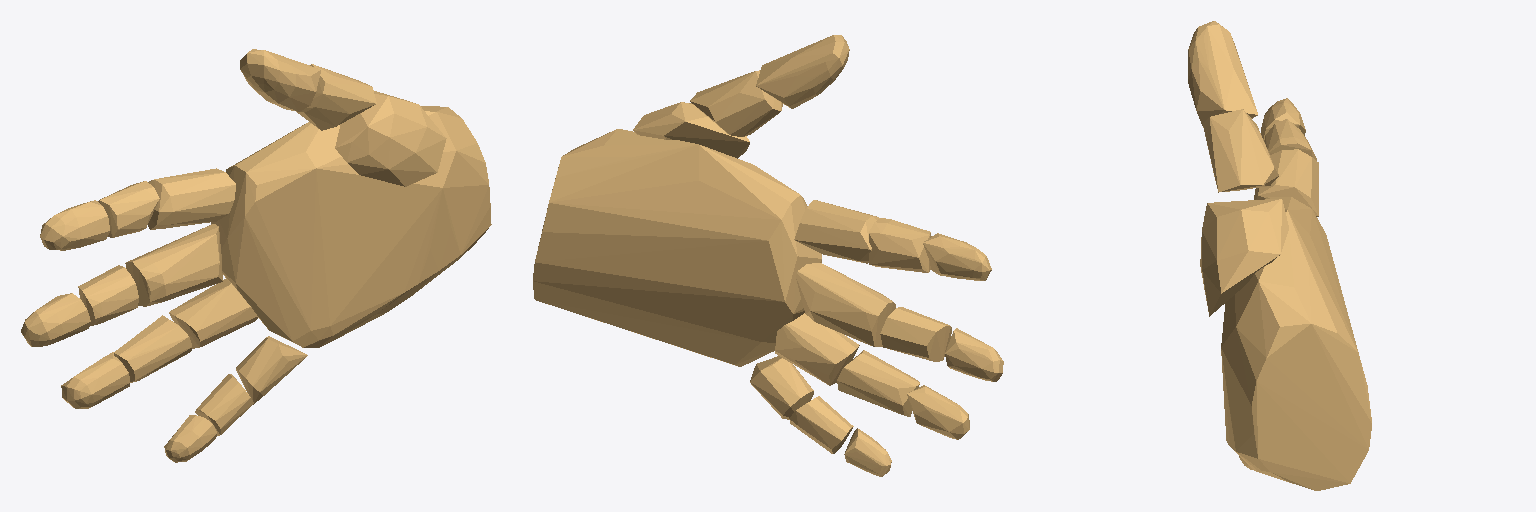
--- What the picture shows (computed from the rendered views, not written in the file) ---
Views: 3 orthographic renders of the robot side by side, from view 1: azimuth 30°, elevation 25°; view 2: azimuth 150°, elevation 25°; view 3: azimuth 270°, elevation 25°.
Robot: mano — 64 links, 63 joints (48 revolute, 3 prismatic, 12 fixed); root link world; default pose: all joints at 0.
Visible links, largest first — view 1: link_palm_rz, link_th_pm_z, link_mf_pm_z, link_ff_pm_z, link_th_dd_z, link_rf_pm_z, link_rf_md_z, link_th_md_z, link_ff_dd_z, link_mf_dd_z, link_lf_pm_z, link_mf_md_z (+4 smaller); view 2: link_palm_rz, link_mf_pm_z, link_th_dd_z, link_rf_pm_z, link_ff_pm_z, link_th_md_z, link_th_pm_z, link_rf_md_z, link_mf_md_z, link_ff_md_z, link_lf_pm_z, link_ff_dd_z (+4 smaller); view 3: link_palm_rz, link_th_pm_z, link_th_dd_z, link_th_md_z, link_ff_pm_z, link_ff_md_z, link_ff_dd_z.
Boxes of the visible links, x1=… form: link_palm_rz: x1=211, y1=106, x2=491, y2=347; link_th_pm_z: x1=335, y1=91, x2=446, y2=186; link_mf_pm_z: x1=125, y1=224, x2=222, y2=306; link_ff_pm_z: x1=148, y1=168, x2=235, y2=229; link_th_dd_z: x1=240, y1=49, x2=320, y2=111; link_rf_pm_z: x1=169, y1=279, x2=257, y2=348; link_rf_md_z: x1=114, y1=315, x2=191, y2=382; link_th_md_z: x1=297, y1=64, x2=376, y2=130; link_ff_dd_z: x1=40, y1=200, x2=109, y2=250; link_mf_dd_z: x1=21, y1=293, x2=90, y2=346; link_lf_pm_z: x1=236, y1=336, x2=307, y2=404; link_mf_md_z: x1=78, y1=265, x2=138, y2=325; link_palm_rz: x1=533, y1=129, x2=821, y2=366; link_mf_pm_z: x1=796, y1=263, x2=895, y2=346; link_th_dd_z: x1=756, y1=35, x2=849, y2=108; link_rf_pm_z: x1=775, y1=313, x2=859, y2=385; link_ff_pm_z: x1=794, y1=200, x2=879, y2=263; link_th_md_z: x1=690, y1=70, x2=782, y2=136; link_th_pm_z: x1=633, y1=102, x2=749, y2=158; link_rf_md_z: x1=837, y1=350, x2=919, y2=416; link_mf_md_z: x1=880, y1=307, x2=951, y2=361; link_ff_md_z: x1=869, y1=218, x2=931, y2=272; link_lf_pm_z: x1=750, y1=356, x2=813, y2=419; link_ff_dd_z: x1=923, y1=233, x2=991, y2=280; link_palm_rz: x1=1221, y1=197, x2=1371, y2=490; link_th_pm_z: x1=1200, y1=199, x2=1288, y2=316; link_th_dd_z: x1=1188, y1=21, x2=1257, y2=125; link_th_md_z: x1=1203, y1=109, x2=1278, y2=192; link_ff_pm_z: x1=1254, y1=149, x2=1318, y2=216; link_ff_md_z: x1=1264, y1=119, x2=1316, y2=160; link_ff_dd_z: x1=1261, y1=98, x2=1305, y2=139.
Size in the robot's own frame: 0.1951 by 0.0594 by 0.1689 metres.
16 mesh visuals loaded from 16 distinct referenced files (16 OBJ).

The robot description file, URDF, robot "mano":
<?xml version="0.0" ?>
<robot name="mano">


  <material name="hand_color">
    <color rgba="0.91796875 0.765 0.5234 1"/>
  </material>
  <link name="world">  </link>

  <joint name="world_to_base" type="fixed">
    <axis xyz="0 0 0"/>
    <origin xyz="0.0 0.0 0.0"/>
    <parent link="world"/>
    <child link="sliderBar"/>
  </joint>

  <link name="sliderBar">
    <inertial>
      <mass value="0"/>
      <inertia ixx="1.0" ixy="0.0" ixz="0.0" iyy="1.0" iyz="0.0" izz="1.0"/>
    </inertial>
  </link>

    <!--
      Palm
    -->
    <!-- Palm -->
    <link name="palm">
		<inertial>
			<origin rpy="1.58112 0.01503 1.64315" xyz="-0.03429 -0.00198 0.00005"/>
			<mass value="0.25042"/>
			<inertia ixx="0.00043" ixy="0" ixz="0" iyy="0.00029" iyz="0" izz="0.00020"/>
		</inertial>
    </link>

    <link name="link_palm_y">
        <inertial>
            <origin rpy="0.00000 -0.00000 0.00000" xyz="0.00000 0.00000 0.00000"/>
            <mass value="0.00000"/>
            <inertia ixx="0.00000" ixy="0" ixz="0" iyy="0.00000" iyz="0" izz="0.00000"/>
        </inertial>
    </link>
    <link name="link_palm_z">
        <inertial>
            <origin rpy="0.00000 -0.00000 0.00000" xyz="0.00000 0.00000 0.00000"/>
            <mass value="0.00000"/>
            <inertia ixx="0.00000" ixy="0" ixz="0" iyy="0.00000" iyz="0" izz="0.00000"/>
        </inertial>
    </link>
    <link name="link_palm_rx">
        <inertial>
            <origin rpy="0.00000 -0.00000 0.00000" xyz="0.00000 0.00000 0.00000"/>
            <mass value="0.00000"/>
            <inertia ixx="0.00000" ixy="0" ixz="0" iyy="0.00000" iyz="0" izz="0.00000"/>
        </inertial>
    </link>
    <link name="link_palm_ry">
        <inertial>
            <origin rpy="0.00000 -0.00000 0.00000" xyz="0.00000 0.00000 0.00000"/>
            <mass value="0.00000"/>
            <inertia ixx="0.00000" ixy="0" ixz="0" iyy="0.00000" iyz="0" izz="0.00000"/>
        </inertial>
    </link>
    <link name="link_palm_rz">
        <inertial>
            <origin rpy="0.00000 -0.00000 0.00000" xyz="0.00000 0.00000 0.00000"/>
            <mass value="0.00000"/>
            <inertia ixx="0.00000" ixy="0" ixz="0" iyy="0.00000" iyz="0" izz="0.00000"/>
        </inertial>
        <visual>
            <origin rpy="0 0 0.0" xyz="0 0 0"/>
            <geometry>
                <mesh filename="meshes/palm_mean.obj" scale="1 1 1"/>
            </geometry>
            <material name="hand_color"/>
        </visual>
        <collision>
            <origin rpy="0 0 0.2" xyz="-0.03 0 0"/>
            <geometry>
                <box size="0.08780 0.027 0.07"/>
            </geometry>
            <material name="">
              <contact name="finger"/>
            </material>
        </collision>
        <collision>
            <origin rpy="-2.61505 0.70030 -1.87000" xyz="-0.01187 -0.00708 0.01218"/>
            <geometry>
                <capsule length="0.03684" radius="0.015"/>
            </geometry>
            <material name="">
              <contact name="finger"/>
            </material>
        </collision>
    </link>
   <joint name="WRJ0x" type="prismatic">
        <parent link="sliderBar"/>
        <child link="palm"/>
        <origin xyz="0.0 0.0 0.0"/>
        <axis xyz="1 0 0"/>
        <limit effort="100.0" lower="-2" upper="2" />
        <dynamics damping="10.0" friction="0.0001"/>
    </joint>
    <joint name="WRJ0y" type="prismatic">
        <parent link="palm"/>
        <child link="link_palm_y"/>
        <origin xyz="0.0 0.0 0.0"/>
        <axis xyz="0 1 0"/>
        <limit effort="100.0" lower="-2" upper="2" />
        <dynamics damping="10.0" friction="0.0001"/>
    </joint>
    <joint name="WRJ0z" type="prismatic">
        <parent link="link_palm_y"/>
        <child link="link_palm_z"/>
        <origin xyz="0.0 0.0 0.0"/>
        <axis xyz="0 0 1"/>
        <limit effort="100.0" lower="-2" upper="2"/>
        <dynamics damping="10.0" friction="0.0001"/>
    </joint>
    <joint name="WRJ0rx" type="revolute">
        <parent link="link_palm_z"/>
        <child link="link_palm_rx"/>
        <origin xyz="0.0 0.0 0.0"/>
        <axis xyz="1 0 0"/>
        <limit effort="1000" lower="-3.14" upper="3.14" />

        <dynamics   damping="1.0" friction="0.0001"/>
    </joint>
    <joint name="WRJ0ry" type="revolute">
        <parent link="link_palm_rx"/>
        <child link="link_palm_ry"/>
        <origin xyz="0.0 0.0 0.0"/>
        <axis xyz="0 1 0"/>
        <limit effort="1000" lower="-3.14" upper="3.14"  />

        <dynamics   damping="1.0" friction="0.0001"/>
    </joint>
    <joint name="WRJ0rz" type="revolute">
        <parent link="link_palm_ry"/>
        <child link="link_palm_rz"/>
        <origin xyz="0.0 0.0 0.0"/>
        <axis xyz="0 0 1"/>
        <limit effort="1000" lower="-3.14" upper="3.14"  />
        <dynamics   damping="1.0" friction="0.0001"/>
    </joint>


     <!-- FF -->
    <link name="fffixed">
        <inertial>
            <origin rpy="0.00000 -0.00000 0.00000" xyz="0.00000 0.00000 0.00000"/>
            <mass value="0.0"/>
            <inertia ixx="0.00000" ixy="0" ixz="0" iyy="0.00000" iyz="0" izz="0.00000"/>
        </inertial>
    </link>
    <!-- Fix Finger joint -->
    <joint name="Palm_FFJ2" type="fixed">
        <parent link="link_palm_rz"/>
        <child link="fffixed"/>
        <origin xyz="0.0 0.0 0.0"/>
    </joint>


    <link name="ffproximal">
		<inertial>
			<origin rpy="-0.62614 -1.47063 -2.57808" xyz="0.06969 0.00857 -0.01920"/>
			<mass value="0.00845"/>
			<inertia ixx="0.00000" ixy="0" ixz="0" iyy="0.00000" iyz="0" izz="0.00000"/>
		</inertial>
    </link>
    <link name="link_ff_pm_y">
        <inertial>
            <origin rpy="0.00000 -0.00000 0.00000" xyz="0.00000 0.00000 0.00000"/>
            <mass value="0.00000"/>
            <inertia ixx="0.00000" ixy="0" ixz="0" iyy="0.00000" iyz="0" izz="0.00000"/>
        </inertial>
    </link>
    <link name="link_ff_pm_z">
        <inertial>
            <origin rpy="0.00000 -0.00000 0.00000" xyz="0.00000 0.00000 0.00000"/>
            <mass value="0.00000"/>
            <inertia ixx="0.00000" ixy="0" ixz="0" iyy="0.00000" iyz="0" izz="0.00000"/>
        </inertial>
        <collision>
          <origin rpy="2.0759187  1.43150624 1.94972864" xyz="-0.01633945  0.00200468  0.00110853"/>
          <geometry>
            <capsule length="0.0329984988704395" radius="0.009"/>
          </geometry>
          <material name="">
            <contact name="finger"/>
          </material>
       </collision>
       <visual>
           <origin rpy="0 0 0.0" xyz="0 0 0"/>
           <geometry>
               <mesh filename="meshes/ffprox_mean.obj" scale="1 1 1"/>
           </geometry>
           <material name="hand_color"/>
       </visual>
    </link>
    <!-- FF2 proximal joint -->
    <joint name="FFJ2" type="revolute">
        <parent link="fffixed"/>
        <child link="ffproximal"/>
        <origin xyz="-0.0880972 -0.00520036 0.020686"/>
        <axis xyz="1 0 0"/>
        <limit effort="1000" lower="-0.25000" upper="0.25000" />

        <dynamics   damping="1.0" friction="0.0001"/>
    </joint>
    <joint name="FFJ2_y" type="revolute">
        <parent link="ffproximal"/>
        <child link="link_ff_pm_y"/>
        <origin xyz="0 0 0"/>
        <axis xyz="0 1 0"/>
        <limit effort="1000" lower="-0.8" upper="0.8" />

        <dynamics   damping="1.0" friction="0.0001"/>
    </joint>
    <joint name="FFJ2_z" type="revolute">
        <parent link="link_ff_pm_y"/>
        <child link="link_ff_pm_z"/>
        <origin xyz="0 0 0"/>
        <axis xyz="0 0 1"/>
        <limit effort="1000" lower="-0.0" upper="1.57" />

        <dynamics   damping="1.0" friction="0.0001"/>
    </joint>

  <link name="ffmiddle_fixed">
        <inertial>
            <origin rpy="0.00000 -0.00000 0.00000" xyz="0.00000 0.00000 0.00000"/>
            <mass value="0.0"/>
            <inertia ixx="0.00000" ixy="0" ixz="0" iyy="0.00000" iyz="0" izz="0.00000"/>
        </inertial>
    </link>
    <link name="ffmiddle">
		<inertial>
			<origin rpy="1.37262 -0.25251 1.73296" xyz="0.10956 0.00102 -0.02288"/>
			<mass value="0.00413"/>
			<inertia ixx="0.00000" ixy="0" ixz="0" iyy="0.00000" iyz="0" izz="0.00000"/>
		</inertial>
    </link>
    <link name="link_ff_md_y">
        <inertial>
            <origin rpy="0.00000 -0.00000 0.00000" xyz="0.00000 0.00000 0.00000"/>
            <mass value="0.00000"/>
            <inertia ixx="0.00000" ixy="0" ixz="0" iyy="0.00000" iyz="0" izz="0.00000"/>
        </inertial>
    </link>
    <link name="link_ff_md_z">
        <inertial>
            <origin rpy="0.00000 -0.00000 0.00000" xyz="0.00000 0.00000 0.00000"/>
            <mass value="0.00000"/>
            <inertia ixx="0.00000" ixy="0" ixz="0" iyy="0.00000" iyz="0" izz="0.00000"/>
        </inertial>
        <collision>
          <origin rpy="-1.48313839 1.51203433 -1.42475203" xyz="-1.10779554e-02 -6.49210764e-04 -5.70546836e-05"/>
          <geometry>
            <capsule length="0.02219421770877059" radius="0.0075"/>
          </geometry>
          <material name="">
            <contact name="finger"/>
          </material>
       </collision>
       <visual>
           <origin rpy="0 0 0.0" xyz="0 0 0"/>
           <geometry>
               <mesh filename="meshes/ffmiddle_mean.obj" scale="1 1 1"/>
           </geometry>
           <material name="hand_color"/>
       </visual>
    </link>
    <!-- FF1 joint -->
    <joint name="FFJ1_f" type="fixed">
        <parent link="link_ff_pm_z"/>
        <child link="ffmiddle_fixed"/>
        <origin xyz="-0.0326789 0.00400935 0.00221706"/>
        <axis xyz="1 0 0"/>
    </joint>
    <joint name="FFJ1" type="revolute">
        <parent link="ffmiddle_fixed"/>
        <child link="ffmiddle"/>
        <origin xyz="0.0 0.0 0.0"/>
        <axis xyz="1 0 0"/>
        <limit effort="1000" lower="-0.25000" upper="0.25000" />

        <dynamics   damping="1.0" friction="0.0001"/>
    </joint>
    <joint name="FFJ1_y" type="revolute">
        <parent link="ffmiddle"/>
        <child link="link_ff_md_y"/>
        <origin xyz="0.0 0.0 0.0"/>
        <axis xyz="0 1 0"/>
        <limit effort="1000" lower="-0.25000" upper="0.25000" />

        <dynamics   damping="1.0" friction="0.0001"/>
    </joint>
    <joint name="FFJ1_z" type="revolute">
        <parent link="link_ff_md_y"/>
        <child link="link_ff_md_z"/>
        <origin xyz="0.0 0.0 0.0"/>
        <axis xyz="0 0 1"/>
        <limit effort="1000" lower="-0.5000" upper="1.57" />

        <dynamics   damping="1.0" friction="0.0001"/>
    </joint>

    <link name="ffdistal">
		<inertial>
			<origin rpy="1.46564 0.28965 1.52696" xyz="0.13180 0.00199 -0.02293"/>
			<mass value="0.00293"/>
			<inertia ixx="0.00000" ixy="0" ixz="0" iyy="0.00000" iyz="0" izz="0.00000"/>
		</inertial>
    </link>
    <link name="link_ff_dd_y">
        <inertial>
            <origin rpy="0.00000 -0.00000 0.00000" xyz="0.00000 0.00000 0.00000"/>
            <mass value="0.00000"/>
            <inertia ixx="0.00000" ixy="0" ixz="0" iyy="0.00000" iyz="0" izz="0.00000"/>
        </inertial>
    </link>
    <link name="link_ff_dd_z">
        <inertial>
            <origin rpy="0.00000 -0.00000 0.00000" xyz="0.00000 0.00000 0.00000"/>
            <mass value="0.00000"/>
            <inertia ixx="0.00000" ixy="0" ixz="0" iyy="0.00000" iyz="0" izz="0.00000"/>
        </inertial>
        <collision>
          <origin rpy="2.96610898 1.39582282 2.93259132 " xyz="-0.01163138  0.00035898  0.00202463"/>
          <geometry>
            <capsule length="0.015" radius="0.0075"/>
          </geometry>
          <material name="">
            <contact name="finger"/>
          </material>
       </collision>
       <visual>
           <origin rpy="0 0 0.0" xyz="0 0 0"/>
           <geometry>
               <mesh filename="meshes/ffdist_mean.obj" scale="1 1 1"/>
           </geometry>
           <material name="hand_color"/>
       </visual>
    </link>
    <!-- FF1 joint -->
    <joint name="FFJ0" type="revolute">
        <parent link="link_ff_md_z"/>
        <child link="ffdistal"/>
        <origin xyz="-0.0221559 -0.00129842 -0.000114109"/>
        <axis xyz="1 0 0"/>
        <limit effort="1000" lower="-0.25000" upper="0.25000" />

        <dynamics   damping="1.0" friction="0.0001"/>
    </joint>
    <joint name="FFJ0_y" type="revolute">
        <parent link="ffdistal"/>
        <child link="link_ff_dd_y"/>
        <origin xyz="0.0 0.0 0.0"/>
        <axis xyz="0 1 0"/>
        <limit effort="1000" lower="-0.25000" upper="0.25000" />

        <dynamics   damping="1.0" friction="0.0001"/>
    </joint>
    <joint name="FFJ0_z" type="revolute">
        <parent link="link_ff_dd_y"/>
        <child link="link_ff_dd_z"/>
        <origin xyz="0.0 0.0 0.0"/>
        <axis xyz="0 0 1"/>
        <limit effort="1000" lower="-0.000" upper="1.57" />

        <dynamics   damping="1.0" friction="0.0001"/>
    </joint>

    <link name="link_fftip">
                <inertial>
                    <origin rpy="0.00000 -0.00000 0.00000" xyz="0.00000 0.00000 0.00000"/>
                    <mass value="0.00000"/>
                    <inertia ixx="0.00000" ixy="0" ixz="0" iyy="0.00000" iyz="0" izz="0.00000"/>
                </inertial>
    </link>
        <!-- Fix Finger joint -->
    <joint name="FFTip" type="fixed">
            <parent link="link_ff_dd_z"/>
            <child link="link_fftip"/>
            <origin xyz="-0.02326277  0.00071796  0.00404926"/>
    </joint>

    <!-- MF -->
    <link name="mffixed">
        <inertial>
            <origin rpy="0.00000 -0.00000 0.00000" xyz="0.00000 0.00000 0.00000"/>
            <mass value="0.0"/>
            <inertia ixx="0.00000" ixy="0" ixz="0" iyy="0.00000" iyz="0" izz="0.00000"/>
        </inertial>
    </link>
    <!-- Fix Finger joint -->
    <joint name="Palm_MFJ2" type="fixed">
        <parent link="link_palm_rz"/>
        <child link="mffixed"/>
        <origin xyz="0.0 0.0 0.0"/>
    </joint>


    <link name="mfproximal">
		<inertial>
			<origin rpy="1.32892 0.20760 1.52264" xyz="0.08062 0.00385 0.00038"/>
			<mass value="0.00996"/>
			<inertia ixx="0.00000" ixy="0" ixz="0" iyy="0.00000" iyz="0" izz="0.00000"/>
		</inertial>
    </link>
    <link name="link_mf_pm_y">
        <inertial>
            <origin rpy="0.00000 -0.00000 0.00000" xyz="0.00000 0.00000 0.00000"/>
            <mass value="0.00000"/>
            <inertia ixx="0.00000" ixy="0" ixz="0" iyy="0.00000" iyz="0" izz="0.00000"/>
        </inertial>
    </link>
    <link name="link_mf_pm_z">
        <inertial>
            <origin rpy="0.00000 -0.00000 0.00000" xyz="0.00000 0.00000 0.00000"/>
            <mass value="0.00000"/>
            <inertia ixx="0.00000" ixy="0" ixz="0" iyy="0.00000" iyz="0" izz="0.00000"/>
        </inertial>
        <collision>
          <origin rpy="0.32118629 1.38392244 0.26686409" xyz="-0.01559134  0.00093066 -0.00279725"/>
          <geometry>
            <capsule length="0.031735191602453826" radius="0.009"/>
          </geometry>
          <material name="">
            <contact name="finger"/>
          </material>
       </collision>
       <visual>
           <origin rpy="0 0 0.0" xyz="0 0 0"/>
           <geometry>
               <mesh filename="meshes/mfprox_mean.obj" scale="1 1 1"/>
           </geometry>
           <material name="hand_color"/>
       </visual>

    </link>
    <!-- MF2 proximal joint -->
    <joint name="MFJ2" type="revolute">
        <parent link="mffixed"/>
        <child link="mfproximal"/>
        <origin xyz="-0.0946604 -0.00147896 -0.00335754"/>
        <axis xyz="1 0 0"/>
        <limit effort="1000" lower="-0.25000" upper="0.25000" />

        <dynamics   damping="1.0" friction="0.0001"/>
    </joint>
    <joint name="MFJ2_y" type="revolute">
        <parent link="mfproximal"/>
        <child link="link_mf_pm_y"/>
        <origin xyz="0.0 0.0 0.0"/>
        <axis xyz="0 1 0"/>
        <limit effort="1000" lower="-0.8" upper="0.8" />

        <dynamics   damping="1.0" friction="0.0001"/>
    </joint>
    <joint name="MFJ2_z" type="revolute">
        <parent link="link_mf_pm_y"/>
        <child link="link_mf_pm_z"/>
        <origin xyz="0.0 0.0 0.0"/>
        <axis xyz="0 0 1"/>
        <limit effort="1000" lower="-0.0" upper="1.57" />

        <dynamics   damping="1.0" friction="0.0001"/>
    </joint>

    <link name="mfmiddle">
		<inertial>
			<origin rpy="1.36785 0.19063 1.79335" xyz="0.11276 -0.00059 0.00674"/>
			<mass value="0.00400"/>
			<inertia ixx="0.00000" ixy="0" ixz="0" iyy="0.00000" iyz="0" izz="0.00000"/>
		</inertial>
    </link>
    <link name="link_mf_md_y">
        <inertial>
            <origin rpy="0.00000 -0.00000 0.00000" xyz="0.00000 0.00000 0.00000"/>
            <mass value="0.00000"/>
            <inertia ixx="0.00000" ixy="0" ixz="0" iyy="0.00000" iyz="0" izz="0.00000"/>
        </inertial>
    </link>
    <link name="link_mf_md_z">
        <inertial>
            <origin rpy="0.00000 -0.00000 0.00000" xyz="0.00000 0.00000 0.00000"/>
            <mass value="0.00000"/>
            <inertia ixx="0.00000" ixy="0" ixz="0" iyy="0.00000" iyz="0" izz="0.00000"/>
        </inertial>
    <collision>
      <origin rpy="-0.30736925 1.39204219 -0.25742004" xyz="-0.01145232 -0.00062605 -0.00197226"/>
      <geometry>
        <capsule length="0.023275522107771795" radius="0.0075"/>
      </geometry>
      <material name="">
        <contact name="finger"/>
      </material>
   </collision>
   <visual>
       <origin rpy="0 0 0.0" xyz="0 0 0"/>
       <geometry>
           <mesh filename="meshes/mfmiddle_mean.obj" scale="1 1 1"/>
       </geometry>
       <material name="hand_color"/>
   </visual>
    </link>
    <!-- MF1 joint -->
    <joint name="MFJ1" type="revolute">
        <parent link="link_mf_pm_z"/>
        <child link="mfmiddle"/>
        <origin xyz="-0.0311827 0.00186133 -0.00559451"/>
        <axis xyz="1 0 0"/>
        <limit effort="1000" lower="-0.25000" upper="0.25000" />

        <dynamics   damping="1.0" friction="0.0001"/>
    </joint>
    <joint name="MFJ1_y" type="revolute">
        <parent link="mfmiddle"/>
        <child link="link_mf_md_y"/>
        <origin xyz="0.0 0.0 0.0"/>
        <axis xyz="0 1 0"/>
        <limit effort="1000" lower="-0.25000" upper="0.25000" />

        <dynamics   damping="1.0" friction="0.0001"/>
    </joint>
    <joint name="MFJ1_z" type="revolute">
        <parent link="link_mf_md_y"/>
        <child link="link_mf_md_z"/>
        <origin xyz="0.0 0.0 0.0"/>
        <axis xyz="0 0 1"/>
        <limit effort="1000" lower="-0.000" upper="1.57" />

        <dynamics   damping="1.0" friction="0.0001"/>
    </joint>

    <link name="mfdistal">
		<inertial>
			<origin rpy="1.31977 0.24217 1.38225" xyz="0.13534 0.00074 0.01081"/>
			<mass value="0.00289"/>
			<inertia ixx="0.00000" ixy="0" ixz="0" iyy="0.00000" iyz="0" izz="0.00000"/>
		</inertial>
    </link>
    <link name="link_mf_dd_y">
        <inertial>
            <origin rpy="0.00000 -0.00000 0.00000" xyz="0.00000 0.00000 0.00000"/>
            <mass value="0.00000"/>
            <inertia ixx="0.00000" ixy="0" ixz="0" iyy="0.00000" iyz="0" izz="0.00000"/>
        </inertial>
    </link>
    <link name="link_mf_dd_z">
        <inertial>
            <origin rpy="0.00000 -0.00000 0.00000" xyz="0.00000 0.00000 0.00000"/>
            <mass value="0.00000"/>
            <inertia ixx="0.00000" ixy="0" ixz="0" iyy="0.00000" iyz="0" izz="0.00000"/>
        </inertial>
        <collision>
          <origin rpy="-0.21855015 1.36348088  -0.17760409" xyz="-0.01551503 -0.00070755 -0.00318577"/>
          <geometry>
            <capsule length="0.01" radius="0.0075"/>
          </geometry>
          <material name="">
            <contact name="finger"/>
          </material>
       </collision>
       <visual>
           <origin rpy="0 0 0.0" xyz="0 0 0"/>
           <geometry>
               <mesh filename="meshes/mfdist_mean.obj" scale="1 1 1"/>
           </geometry>
           <material name="hand_color"/>
       </visual>
    </link>
    <!-- MF0 joint -->
    <joint name="MFJ0" type="revolute">
        <parent link="link_mf_md_z"/>
        <child link="mfdistal"/>
        <origin xyz="-0.0229046 -0.0012521 -0.00394452"/>
        <axis xyz="1 0 0"/>
        <limit effort="1000" lower="-0.25000" upper="0.25000" />

        <dynamics   damping="1.0" friction="0.0001"/>
    </joint>
    <joint name="MFJ0_y" type="revolute">
        <parent link="mfdistal"/>
        <child link="link_mf_dd_y"/>
        <origin xyz="0.0 0.0 0.0"/>
        <axis xyz="0 1 0"/>
        <limit effort="1000" lower="-0.25000" upper="0.25000" />

        <dynamics   damping="1.0" friction="0.0001"/>
    </joint>
    <joint name="MFJ0_z" type="revolute">
        <parent link="link_mf_dd_y"/>
        <child link="link_mf_dd_z"/>
        <origin xyz="0.0 0.0 0.0"/>
        <axis xyz="0 0 1"/>
        <limit effort="1000" lower="-0.000" upper="1.57" />

        <dynamics   damping="1.0" friction="0.0001"/>
    </joint>

    <link name="link_mftip">
            <inertial>
                <origin rpy="0.00000 -0.00000 0.00000" xyz="0.00000 0.00000 0.00000"/>
                <mass value="0.00000"/>
                <inertia ixx="0.00000" ixy="0" ixz="0" iyy="0.00000" iyz="0" izz="0.00000"/>
            </inertial>
    </link>
        <!-- Fix Finger joint -->
    <joint name="MFTip" type="fixed">
            <parent link="link_mf_dd_z"/>
            <child link="link_mftip"/>
            <origin xyz="-0.03103006 -0.0014151  -0.00637153"/>

    </joint>

    <!-- RF -->
    <link name="rffixed">
        <inertial>
            <origin rpy="0.00000 -0.00000 0.00000" xyz="0.00000 0.00000 0.00000"/>
            <mass value="0.0"/>
            <inertia ixx="0.00000" ixy="0" ixz="0" iyy="0.00000" iyz="0" izz="0.00000"/>
        </inertial>
    </link>

    <!-- Fix Finger joint -->
    <joint name="Palm_RFJ2" type="fixed">
        <parent link="link_palm_rz"/>
        <child link="rffixed"/>
        <origin xyz="0.0 0.0 0.0"/>
    </joint>


    <link name="rfproximal">
		<inertial>
			<origin rpy="-1.12499 -1.03767 -1.92594" xyz="0.06944 0.00644 0.02597"/>
			<mass value="0.00725"/>
			<inertia ixx="0.00000" ixy="0" ixz="0" iyy="0.00000" iyz="0" izz="0.00000"/>
		</inertial>
    </link>
    <link name="link_rf_pm_y">
        <inertial>
            <origin rpy="0.00000 -0.00000 0.00000" xyz="0.00000 0.00000 0.00000"/>
            <mass value="0.00000"/>
            <inertia ixx="0.00000" ixy="0" ixz="0" iyy="0.00000" iyz="0" izz="0.00000"/>
        </inertial>
    </link>
    <link name="link_rf_pm_z">
        <inertial>
            <origin rpy="0.00000 -0.00000 0.00000" xyz="0.00000 0.00000 0.00000"/>
            <mass value="0.00000"/>
            <inertia ixx="0.00000" ixy="0" ixz="0" iyy="0.00000" iyz="0" izz="0.00000"/>
        </inertial>
        <collision>
          <origin rpy=" 0.38516311 1.37888284 0.31878467" xyz="-0.01415714  0.0010335  -0.00254927"/>
          <geometry>
            <capsule length="0.028843811919740826" radius="0.009"/>
          </geometry>
          <material name="">
            <contact name="finger"/>
          </material>
       </collision>
       <visual>
           <origin rpy="0 0 0.0" xyz="0 0 0"/>
           <geometry>
               <mesh filename="meshes/rfprox_mean.obj" scale="1 1 1"/>
           </geometry>
           <material name="hand_color"/>
       </visual>
    </link>
    <!-- RF2 proximal joint -->
    <joint name="RFJ2" type="revolute">
        <parent link="rffixed"/>
        <child link="rfproximal"/>
        <origin xyz="-0.0817355 -0.00395742 -0.0266732"/>
        <axis xyz="1 0 0"/>
        <limit effort="1000" lower="-0.25000" upper="0.25000" />

        <dynamics   damping="1.0" friction="0.0001"/>
    </joint>
    <joint name="RFJ2_y" type="revolute">
        <parent link="rfproximal"/>
        <child link="link_rf_pm_y"/>
        <origin xyz="0.0 0.0 0.0"/>
        <axis xyz="0 1 0"/>
        <limit effort="1000" lower="-0.8" upper="0.8" />

        <dynamics   damping="1.0" friction="0.0001"/>
    </joint>
    <joint name="RFJ2_z" type="revolute">
        <parent link="link_rf_pm_y"/>
        <child link="link_rf_pm_z"/>
        <origin xyz="0.0 0.0 0.0"/>
        <axis xyz="0 0 1"/>
        <limit effort="1000" lower="-0.0" upper="1.57" />

        <dynamics   damping="1.0" friction="0.0001"/>
    </joint>

    <link name="rfmiddle">
		<inertial>
			<origin rpy="1.27220 0.24142 1.59300" xyz="0.09885 0.00150 0.02757"/>
			<mass value="0.00487"/>
			<inertia ixx="0.00000" ixy="0" ixz="0" iyy="0.00000" iyz="0" izz="0.00000"/>
		</inertial>
    </link>
    <link name="link_rf_md_y">
        <inertial>
            <origin rpy="0.00000 -0.00000 0.00000" xyz="0.00000 0.00000 0.00000"/>
            <mass value="0.00000"/>
            <inertia ixx="0.00000" ixy="0" ixz="0" iyy="0.00000" iyz="0" izz="0.00000"/>
        </inertial>
    </link>
    <link name="link_rf_md_z">
        <inertial>
            <origin rpy="0.00000 -0.00000 0.00000" xyz="0.00000 0.00000 0.00000"/>
            <mass value="0.00000"/>
            <inertia ixx="0.00000" ixy="0" ixz="0" iyy="0.00000" iyz="0" izz="0.00000"/>
        </inertial>
        <collision>
          <origin rpy="-0.21763357 1.24988512 -0.15729772" xyz="-0.01176025 -0.00084406 -0.00381691"/>
          <geometry>
            <capsule length="0.024785865310763495" radius="0.0075"/>
          </geometry>
          <material name="">
            <contact name="finger"/>
          </material>
       </collision>
       <visual>
           <origin rpy="0 0 0.0" xyz="0 0 0"/>
           <geometry>
               <mesh filename="meshes/rfmiddle_mean.obj" scale="1 1 1"/>
           </geometry>
           <material name="hand_color"/>
       </visual>
    </link>
    <!-- RF1 joint -->
    <joint name="RFJ1" type="revolute">
        <parent link="link_rf_pm_z"/>
        <child link="rfmiddle"/>
        <origin xyz="-0.0283143 0.00206701 -0.00509854"/>
        <axis xyz="1 0 0"/>
        <limit effort="1000" lower="-0.25000" upper="0.25000" />

        <dynamics   damping="1.0" friction="0.0001"/>
    </joint>
    <joint name="RFJ1_y" type="revolute">
        <parent link="rfmiddle"/>
        <child link="link_rf_md_y"/>
        <origin xyz="0.0 0.0 0.0"/>
        <axis xyz="0 1 0"/>
        <limit effort="1000" lower="-0.25000" upper="0.25000" />

        <dynamics   damping="1.0" friction="0.0001"/>
    </joint>
    <joint name="RFJ1_z" type="revolute">
        <parent link="link_rf_md_y"/>
        <child link="link_rf_md_z"/>
        <origin xyz="0.0 0.0 0.0"/>
        <axis xyz="0 0 1"/>
        <limit effort="1000" lower="-0.000" upper="1.57" />

        <dynamics   damping="1.0" friction="0.0001"/>
    </joint>

    <link name="rfdistal">
		<inertial>
			<origin rpy="1.25957 0.23826 1.45394" xyz="0.12158 0.00349 0.03689"/>
			<mass value="0.00272"/>
			<inertia ixx="0.00000" ixy="0" ixz="0" iyy="0.00000" iyz="0" izz="0.00000"/>
		</inertial>
    </link>
    <link name="link_rf_dd_y">
        <inertial>
            <origin rpy="0.00000 -0.00000 0.00000" xyz="0.00000 0.00000 0.00000"/>
            <mass value="0.00000"/>
            <inertia ixx="0.00000" ixy="0" ixz="0" iyy="0.00000" iyz="0" izz="0.00000"/>
        </inertial>
    </link>
    <link name="link_rf_dd_z">
        <inertial>
            <origin rpy="0.00000 -0.00000 0.00000" xyz="0.00000 0.00000 0.00000"/>
            <mass value="0.00000"/>
            <inertia ixx="0.00000" ixy="0" ixz="0" iyy="0.00000" iyz="0" izz="0.00000"/>
        </inertial>
        <collision>
          <origin rpy="0.43325752 1.27456581 0.32302802" xyz="-0.01460212  0.00187106 -0.00404494"/>
          <geometry>
            <capsule length="0.01" radius="0.0075"/>
          </geometry>
          <material name="">
            <contact name="finger"/>
          </material>
       </collision>
       <visual>
         <origin rpy="0 0 0.0" xyz="0 0 0"/>
         <geometry>
             <mesh filename="meshes/rfdist_mean.obj" scale="1 1 1"/>
         </geometry>
         <material name="hand_color"/>
       </visual>
    </link>
    <!-- RF0 joint -->
    <joint name="RFJ0" type="revolute">
        <parent link="link_rf_md_z"/>
        <child link="rfdistal"/>
        <origin xyz="-0.0235205 -0.00168811 -0.00763382"/>
        <axis xyz="1 0 0"/>
        <limit effort="1000" lower="-0.25000" upper="0.25000" />

        <dynamics   damping="1.0" friction="0.0001"/>
    </joint>
    <joint name="RFJ0_y" type="revolute">
        <parent link="rfdistal"/>
        <child link="link_rf_dd_y"/>
        <origin xyz="0.0 0.0 0.0"/>
        <axis xyz="0 1 0"/>
        <limit effort="1000" lower="-0.25000" upper="0.25000" />

        <dynamics   damping="1.0" friction="0.0001"/>
    </joint>
    <joint name="RFJ0_z" type="revolute">
        <parent link="link_rf_dd_y"/>
        <child link="link_rf_dd_z"/>
        <origin xyz="0.0 0.0 0.0"/>
        <axis xyz="0 0 1"/>
        <limit effort="1000" lower="-0.000" upper="1.57" />

        <dynamics   damping="1.0" friction="0.0001"/>
    </joint>

    <link name="link_rftip">
            <inertial>
                <origin rpy="0.00000 -0.00000 0.00000" xyz="0.00000 0.00000 0.00000"/>
                <mass value="0.00000"/>
                <inertia ixx="0.00000" ixy="0" ixz="0" iyy="0.00000" iyz="0" izz="0.00000"/>
            </inertial>
    </link>
        <!-- Fix Finger joint -->
    <joint name="RFTip" type="fixed">
            <parent link="link_rf_dd_z"/>
            <child link="link_rftip"/>
            <origin xyz="-0.02920424  0.00374213 -0.00808987"/>
    </joint>

     <!-- LF -->
    <link name="lffixed">
        <inertial>
            <origin rpy="0.00000 -0.00000 0.00000" xyz="0.00000 0.00000 0.00000"/>
            <mass value="0.0"/>
            <inertia ixx="0.00000" ixy="0" ixz="0" iyy="0.00000" iyz="0" izz="0.00000"/>
        </inertial>
    </link>
    <!-- Fix Finger joint -->
    <joint name="Palm_LFJ2" type="fixed">
        <parent link="link_palm_rz"/>
        <child link="lffixed"/>
        <origin xyz="0.0 0.0 0.0"/>
    </joint>


    <link name="lfproximal">
		<inertial>
			<origin rpy="0.98931 0.08796 1.53876" xyz="0.06149 0.01115 0.03613"/>
			<mass value="0.00416"/>
			<inertia ixx="0.00000" ixy="0" ixz="0" iyy="0.00000" iyz="0" izz="0.00000"/>
		</inertial>
    </link>
    <link name="link_lf_pm_y">
        <inertial>
            <origin rpy="0.00000 -0.00000 0.00000" xyz="0.00000 0.00000 0.00000"/>
            <mass value="0.00000"/>
            <inertia ixx="0.00000" ixy="0" ixz="0" iyy="0.00000" iyz="0" izz="0.00000"/>
        </inertial>
    </link>
    <link name="link_lf_pm_z">
        <inertial>
            <origin rpy="0.00000 -0.00000 0.00000" xyz="0.00000 0.00000 0.00000"/>
            <mass value="0.00000"/>
            <inertia ixx="0.00000" ixy="0" ixz="0" iyy="0.00000" iyz="0" izz="0.00000"/>
        </inertial>
        <collision>
          <origin rpy="0.00494643 0.93721839 0.00250398" xyz="-8.50720331e-03  3.09124589e-05 -6.24939241e-03"/>
          <geometry>
            <capsule length="0.0211119273571839" radius="0.009"/>
          </geometry>
          <material name="">
            <contact name="finger"/>
          </material>
       </collision>
       <visual>
           <origin rpy="0 0 0.0" xyz="0 0 0"/>
           <geometry>
               <mesh filename="meshes/lfprox_mean.obj" scale="1 1 1"/>
           </geometry>
           <material name="hand_color"/>
       </visual>
    </link>
    <!-- LF2 proximal joint -->
    <joint name="LFJ2" type="revolute">
        <parent link="lffixed"/>
        <child link="lfproximal"/>
        <origin xyz="-0.0687869 -0.00994033 -0.0432093"/>
        <axis xyz="1 0 0"/>
        <limit effort="1000" lower="-0.25000" upper="0.25000" />

        <dynamics   damping="1.0" friction="0.0001"/>
    </joint>
    <joint name="LFJ2_y" type="revolute">
        <parent link="lfproximal"/>
        <child link="link_lf_pm_y"/>
        <origin xyz="0.0 0.0 0.0"/>
        <axis xyz="0 1 0"/>
        <limit effort="1000" lower="-0.8" upper="0.8" />

        <dynamics   damping="1.0" friction="0.0001"/>
    </joint>
    <joint name="LFJ2_z" type="revolute">
        <parent link="link_lf_pm_y"/>
        <child link="link_lf_pm_z"/>
        <origin xyz="0.0 0.0 0.0"/>
        <axis xyz="0 0 1"/>
        <limit effort="1000"  lower="-0.0" upper="1.57" />

        <dynamics   damping="1.0" friction="0.0001"/>
    </joint>

    <link name="lfmiddle">
		<inertial>
			<origin rpy="0.93554 0.47504 1.36883" xyz="0.07794 0.01096 0.04952"/>
			<mass value="0.00269"/>
			<inertia ixx="0.00000" ixy="0" ixz="0" iyy="0.00000" iyz="0" izz="0.00000"/>
		</inertial>
    </link>
    <link name="link_lf_md_y">
        <inertial>
            <origin rpy="0.00000 -0.00000 0.00000" xyz="0.00000 0.00000 0.00000"/>
            <mass value="0.00000"/>
            <inertia ixx="0.00000" ixy="0" ixz="0" iyy="0.00000" iyz="0" izz="0.00000"/>
        </inertial>
    </link>
    <link name="link_lf_md_z">
        <inertial>
            <origin rpy="0.00000 -0.00000 0.00000" xyz="0.00000 0.00000 0.00000"/>
            <mass value="0.00000"/>
            <inertia ixx="0.00000" ixy="0" ixz="0" iyy="0.00000" iyz="0" izz="0.00000"/>
        </inertial>
    <collision>
      <origin rpy="-0.06679566 0.99258405 -0.0361792" xyz="-0.00793345 -0.00034558 -0.00516596"/>
      <geometry>
        <capsule length="0.018946892889554656" radius="0.0075"/>
      </geometry>
      <material name="">
        <contact name="finger"/>
      </material>
   </collision>
   <visual>
       <origin rpy="0 0 0.0" xyz="0 0 0"/>
       <geometry>
           <mesh filename="meshes/lfmiddle_mean.obj" scale="1 1 1"/>
       </geometry>
       <material name="hand_color"/>
   </visual>
    </link>
    <!-- LF1 joint -->
    <joint name="LFJ1" type="revolute">
        <parent link="link_lf_pm_z"/>
        <child link="lfmiddle"/>
        <origin xyz="-0.0170144 6.18249e-05 -0.0124988"/>
        <axis xyz="1 0 0"/>
        <limit effort="1000" lower="-0.25000" upper="0.25000" />

        <dynamics   damping="1.0" friction="0.0001"/>
    </joint>
    <joint name="LFJ1_y" type="revolute">
        <parent link="lfmiddle"/>
        <child link="link_lf_md_y"/>
        <origin xyz="0.0 0.0 0.0"/>
        <axis xyz="0 1 0"/>
        <limit effort="1000" lower="-0.25000" upper="0.25000" />

        <dynamics   damping="1.0" friction="0.0001"/>
    </joint>
    <joint name="LFJ1_z" type="revolute">
        <parent link="link_lf_md_y"/>
        <child link="link_lf_md_z"/>
        <origin xyz="0.0 0.0 0.0"/>
        <axis xyz="0 0 1"/>
        <limit effort="1000" lower="-0.000" upper="1.57" />

        <dynamics   damping="1.0" friction="0.0001"/>
    </joint>

    <link name="lfdistal">
		<inertial>
			<origin rpy="1.07016 0.12658 1.51486" xyz="0.09286 0.00961 0.06201"/>
			<mass value="0.00150"/>
			<inertia ixx="0.00000" ixy="0" ixz="0" iyy="0.00000" iyz="0" izz="0.00000"/>
		</inertial>
    </link>
    <link name="link_lf_dd_y">
        <inertial>
            <origin rpy="0.00000 -0.00000 0.00000" xyz="0.00000 0.00000 0.00000"/>
            <mass value="0.00000"/>
            <inertia ixx="0.00000" ixy="0" ixz="0" iyy="0.00000" iyz="0" izz="0.00000"/>
        </inertial>
    </link>
    <link name="link_lf_dd_z">
        <inertial>
            <origin rpy="0.00000 -0.00000 0.00000" xyz="0.00000 0.00000 0.00000"/>
            <mass value="0.00000"/>
            <inertia ixx="0.00000" ixy="0" ixz="0" iyy="0.00000" iyz="0" izz="0.00000"/>
        </inertial>
        <collision>
          <origin rpy="0.22194785 1.02909336 0.12582808" xyz="-0.00977975  0.00129545 -0.00574058"/>
          <geometry>
            <capsule length="0.007" radius="0.0065"/>
          </geometry>
          <material name="">
            <contact name="finger"/>
          </material>
       </collision>
       <visual>
           <origin rpy="0 0 0.0" xyz="0 0 0"/>
           <geometry>
               <mesh filename="meshes/lfdist_mean.obj" scale="1 1 1"/>
           </geometry>
           <material name="hand_color"/>
       </visual>
    </link>
    <!-- LF0 joint -->
    <joint name="LFJ0" type="revolute">
        <parent link="link_lf_md_z"/>
        <child link="lfdistal"/>
        <origin xyz="-0.0158669 -0.000691155 -0.0103319"/>
        <axis xyz="1 0 0"/>
        <limit effort="1000" lower="-0.25000" upper="0.25000" />

        <dynamics   damping="1.0" friction="0.0001"/>
    </joint>
    <joint name="LFJ0_y" type="revolute">
        <parent link="lfdistal"/>
        <child link="link_lf_dd_y"/>
        <origin xyz="0.0 0.0 0.0"/>
        <axis xyz="0 1 0"/>
        <limit effort="1000" lower="-0.25000" upper="0.25000" />

        <dynamics   damping="1.0" friction="0.0001"/>
    </joint>
    <joint name="LFJ0_z" type="revolute">
        <parent link="link_lf_dd_y"/>
        <child link="link_lf_dd_z"/>
        <origin xyz="0.0 0.0 0.0"/>
        <axis xyz="0 0 1"/>
        <limit effort="1000" lower="-0.000" upper="1.57" />

        <dynamics   damping="1.0" friction="0.0001"/>
    </joint>
    <link name="link_lftip">
        <inertial>
            <origin rpy="0.00000 -0.00000 0.00000" xyz="0.00000 0.00000 0.00000"/>
            <mass value="0.00000"/>
            <inertia ixx="0.00000" ixy="0" ixz="0" iyy="0.00000" iyz="0" izz="0.00000"/>
        </inertial>
    </link>
    <!-- Fix Finger joint -->
    <joint name="LFTip" type="fixed">
        <parent link="link_lf_dd_z"/>
        <child link="link_lftip"/>
        <origin xyz="-0.0195595   0.0025909  -0.01148116"/>
    </joint>


    <!-- TH -->
    <link name="thfixed">
        <inertial>
            <origin rpy="0.00000 -0.00000 0.00000" xyz="0.00000 0.00000 0.00000"/>
            <mass value="0.0"/>
            <inertia ixx="0.00000" ixy="0" ixz="0" iyy="0.00000" iyz="0" izz="0.00000"/>
        </inertial>
    </link>
    <!-- Fix Finger joint -->
    <joint name="Palm_THJ2" type="fixed">
        <parent link="link_palm_rz"/>
        <child link="thfixed"/>
        <origin xyz="0.0 0.0 0.0"/>
    </joint>


    <link name="thproximal">
		<inertial>
			<origin rpy="-1.80697 -0.79472 -1.24970" xyz="0.01872 0.01295 -0.01284"/>
			<mass value="0.01392"/>
			<inertia ixx="0.00000" ixy="0" ixz="0" iyy="0.00000" iyz="0" izz="0.00000"/>
		</inertial>
    </link>
    <link name="link_th_pm_y">
        <inertial>
            <origin rpy="0.00000 -0.00000 0.00000" xyz="0.00000 0.00000 0.00000"/>
            <mass value="0.00000"/>
            <inertia ixx="0.00000" ixy="0" ixz="0" iyy="0.00000" iyz="0" izz="0.00000"/>
        </inertial>
    </link>
    <link name="link_th_pm_z">
        <inertial>
            <origin rpy="0.00000 -0.00000 0.00000" xyz="0.00000 0.00000 0.00000"/>
            <mass value="0.00000"/>
            <inertia ixx="0.00000" ixy="0" ixz="0" iyy="0.00000" iyz="0" izz="0.00000"/>
        </inertial>
        <collision>
          <origin rpy="3.10400265 0.69148607 3.03731965" xyz="-0.00981662  0.00044564  0.01184977"/>
          <geometry>
            <capsule length="0.030788427516318044" radius="0.01"/>
          </geometry>
       </collision>
       <material name="">
         <contact name="finger"/>
       </material>
       <visual>
           <origin rpy="0 0 0.0" xyz="0 0 0"/>
           <geometry>
               <mesh filename="meshes/thprox_mean.obj" scale="1 1 1"/>
           </geometry>
           <material name="hand_color"/>
       </visual>
    </link>
    <!-- TH2 proximal joint -->
    <joint name="THJ2" type="revolute">
        <parent link="thfixed"/>
        <child link="thproximal"/>
        <origin xyz="-0.0240897 -0.0155223 0.0258128"/>
        <axis xyz="1 0 0"/>
        <limit effort="1000" lower="0" upper="1.57" />
        <dynamics   damping="1.0" friction="0.0001"/>
    </joint>
    <joint name="THJ2_y" type="revolute">
        <parent link="thproximal"/>
        <child link="link_th_pm_y"/>
        <origin xyz="0.0 0.0 0.0"/>
        <axis xyz="0 1 0"/>
        <limit effort="1000" lower="-0.8" upper="0.8" />
        <dynamics   damping="1.0" friction="0.0001"/>
    </joint>
    <joint name="THJ2_z" type="revolute">
        <parent link="link_th_pm_y"/>
        <child link="link_th_pm_z"/>
        <origin xyz="0.0 0.0 0.0"/>
        <axis xyz="0 0 1"/>
        <limit effort="1000" lower="-0.25" upper="0.25" />
        <dynamics   damping="1.0" friction="0.0001"/>
    </joint>

    <link name="thmiddle">
		<inertial>
			<origin rpy="2.09811 -1.08828 1.27625" xyz="0.03297 0.01229 -0.04103"/>
			<mass value="0.00802"/>
			<inertia ixx="0.00000" ixy="0" ixz="0" iyy="0.00000" iyz="0" izz="0.00000"/>
		</inertial>
    </link>
    <link name="link_th_md_y">
        <inertial>
            <origin rpy="0.00000 -0.00000 0.00000" xyz="0.00000 0.00000 0.00000"/>
            <mass value="0.00000"/>
            <inertia ixx="0.00000" ixy="0" ixz="0" iyy="0.00000" iyz="0" izz="0.00000"/>
        </inertial>
    </link>
    <link name="link_th_md_z">
        <inertial>
            <origin rpy="0.00000 -0.00000 0.00000" xyz="0.00000 0.00000 0.00000"/>
            <mass value="0.00000"/>
            <inertia ixx="0.00000" ixy="0" ixz="0" iyy="0.00000" iyz="0" izz="0.00000"/>
        </inertial>
        <collision>
          <origin rpy=" -2.78364168 0.96144328  -2.47379542" xyz="-0.01110887 -0.00271648  0.00726206"/>
          <geometry>
            <capsule length="0.02709418497996566" radius="0.01"/>
          </geometry>
          <material name="">
            <contact name="finger"/>
          </material>
       </collision>
       <visual>
           <origin rpy="0 0 0.0" xyz="0 0 0"/>
           <geometry>
               <mesh filename="meshes/thmiddle_mean.obj" scale="1 1 1"/>
           </geometry>
           <material name="hand_color"/>
       </visual>
    </link>
    <!-- TH1 joint -->
    <joint name="THJ1" type="revolute">
        <parent link="link_th_pm_z"/>
        <child link="thmiddle"/>
        <origin xyz="-0.0196332 0.000891286 0.0236995"/>
        <axis xyz="1 0 0"/>
        <limit effort="1000" lower="-1" upper="1" />
        <dynamics   damping="1.0" friction="0.0001"/>
    </joint>
    <joint name="THJ1_y" type="revolute">
        <parent link="thmiddle"/>
        <child link="link_th_md_y"/>
        <origin xyz="0.0 0.0 0.0"/>
        <axis xyz="0 1 0"/>
        <limit effort="1000" lower="-0.5" upper="0.5" />
        <dynamics   damping="1.0" friction="0.0001"/>
    </joint>
    <joint name="THJ1_z" type="revolute">
        <parent link="link_th_md_y"/>
        <child link="link_th_md_z"/>
        <origin xyz="0.0 0.0 0.0"/>
        <axis xyz="0 0 1"/>
        <limit effort="1000" lower="-0.5" upper="0.5" />
        <dynamics   damping="1.0" friction="0.0001"/>
    </joint>

    <link name="thdistal">
    <inertial>
        <origin rpy="2.56484 -0.79342 0.95392" xyz="0.05414 0.01779 -0.05485"/>
        <mass value="0.00726"/>
        <inertia ixx="0.00000" ixy="0" ixz="0" iyy="0.00000" iyz="0" izz="0.00000"/>
    </inertial>
    </link>
    <link name="link_th_dd_y">
        <inertial>
            <origin rpy="0.00000 -0.00000 0.00000" xyz="0.00000 0.00000 0.00000"/>
            <mass value="0.00000"/>
            <inertia ixx="0.00000" ixy="0" ixz="0" iyy="0.00000" iyz="0" izz="0.00000"/>
        </inertial>
    </link>
    <link name="link_th_dd_z">
        <inertial>
            <origin rpy="0.00000 -0.00000 0.00000" xyz="0.00000 0.00000 0.00000"/>
            <mass value="0.00000"/>
            <inertia ixx="0.00000" ixy="0" ixz="0" iyy="0.00000" iyz="0" izz="0.00000"/>
        </inertial>
        <collision>
          <origin rpy="-2.83317999 0.97259243  -2.56963586" xyz="-0.01577465 -0.00326327  0.01024323"/>
          <geometry>
            <capsule length="0.02" radius="0.01"/>
          </geometry>
          <material name="">
              <contact name="finger"/>
          </material>
       </collision>
       <visual>
           <origin rpy="0 0 0.0" xyz="0 0 0"/>
           <geometry>
               <mesh filename="meshes/thdist_mean.obj" scale="1 1 1"/>
           </geometry>
           <material name="hand_color"/>
       </visual>
    </link>
    <!-- TH0 joint -->
    <joint name="THJ0" type="revolute">
        <parent link="link_th_md_z"/>
        <child link="thdistal"/>
        <origin xyz="-0.0222177 -0.00543297 0.0145241"/>
        <axis xyz="1 0 0"/>
        <limit effort="1000" lower="-0.000" upper="1.57" />
        <dynamics   damping="1.0" friction="0.0001"/>
    </joint>
    <joint name="THJ0_y" type="revolute">
        <parent link="thdistal"/>
        <child link="link_th_dd_y"/>
        <origin xyz="0.0 0.0 0.0"/>
        <axis xyz="0 1 0"/>
        <limit effort="1000" lower="-1.0000" upper="1.0000" />

        <dynamics   damping="1.0" friction="0.0001"/>
    </joint>
    <joint name="THJ0_z" type="revolute">
        <parent link="link_th_dd_y"/>
        <child link="link_th_dd_z"/>
        <origin xyz="0.0 0.0 0.0"/>
        <axis xyz="0 0 1"/>
        <limit effort="1000" lower="-1.0000" upper="1.0000" />

        <dynamics   damping="1.0" friction="0.0001"/>
    </joint>
    <link name="link_thtip">
        <inertial>
            <origin rpy="0.00000 -0.00000 0.00000" xyz="0.00000 0.00000 0.00000"/>
            <mass value="0.00000"/>
            <inertia ixx="0.00000" ixy="0" ixz="0" iyy="0.00000" iyz="0" izz="0.00000"/>
        </inertial>
    </link>
    <!-- Fix Finger joint -->
    <joint name="THTip" type="fixed">
        <parent link="link_th_dd_z"/>
        <child link="link_thtip"/>
        <origin xyz="-0.0315493  -0.00652654  0.02048647"/>
    </joint>


</robot>
